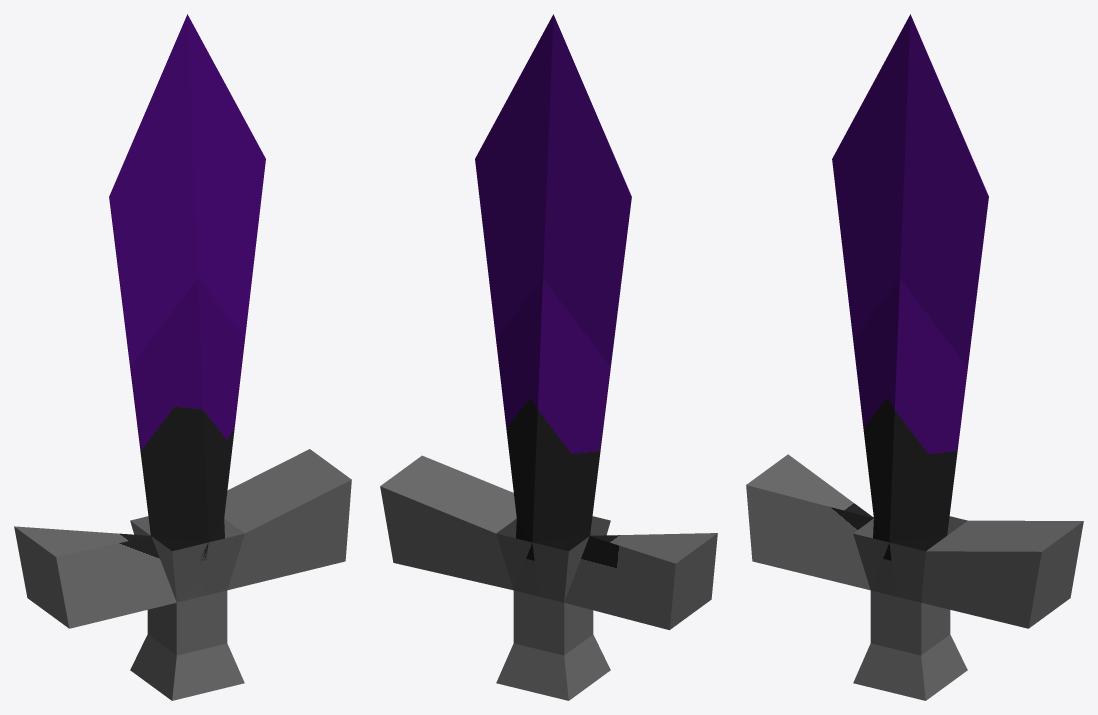
File: espada.glb
3 views of the same model, side by side, from view 1: azimuth 30°, elevation 25°; view 2: azimuth 150°, elevation 25°; view 3: azimuth 330°, elevation 25° (orthographic).
Visible parts, largest first — view 1: espada; view 2: espada; view 3: espada.
Boxes of the visible parts, x1,y1,x2,y2 form: espada: [14, 14, 351, 700]; espada: [380, 14, 717, 700]; espada: [746, 14, 1083, 700].
Bounding box in the file's own units: 4.46 × 9.54 × 1.21.
1 material, 1 textured.
